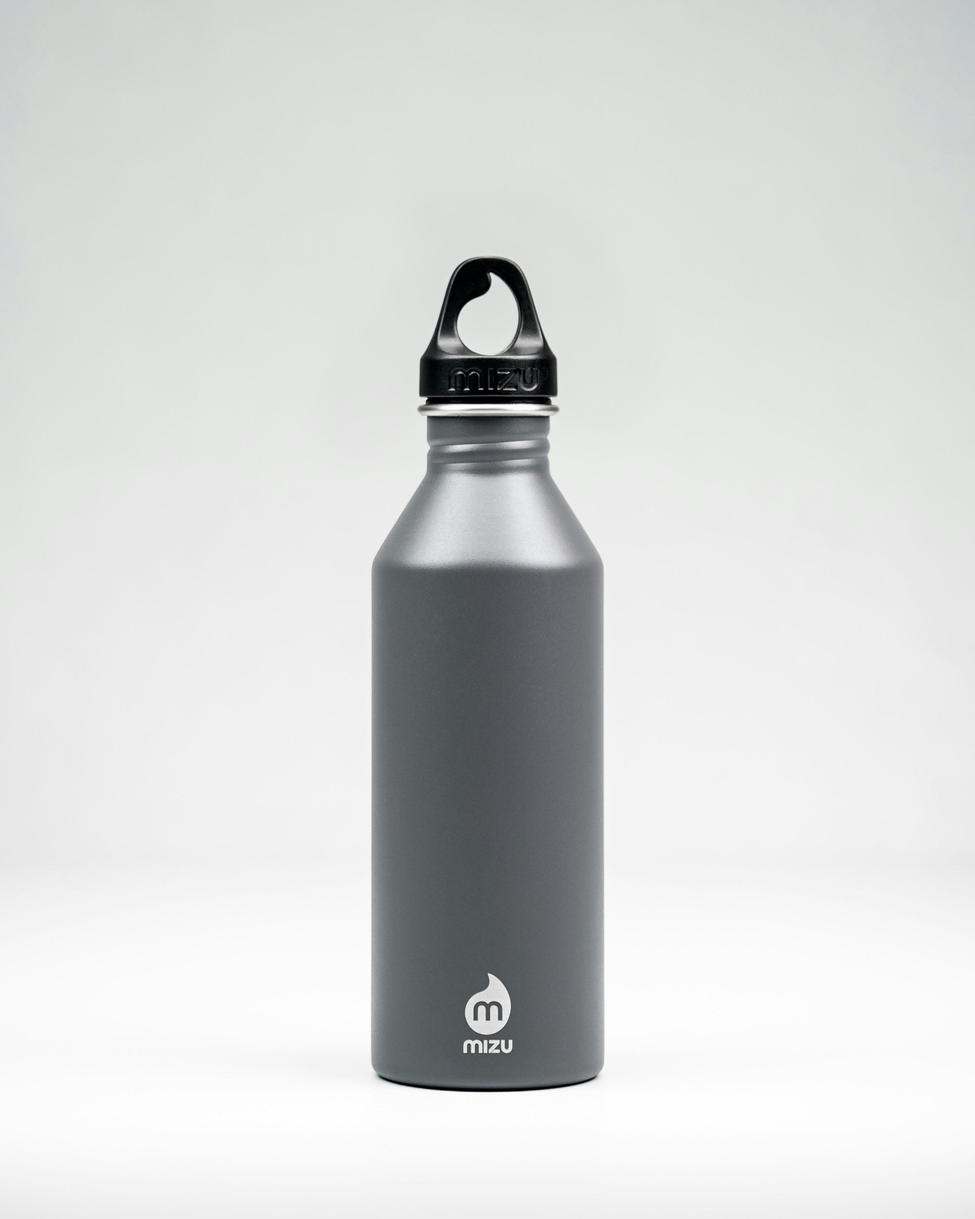Bottle-Detection: (217, 145, 761, 1181)
